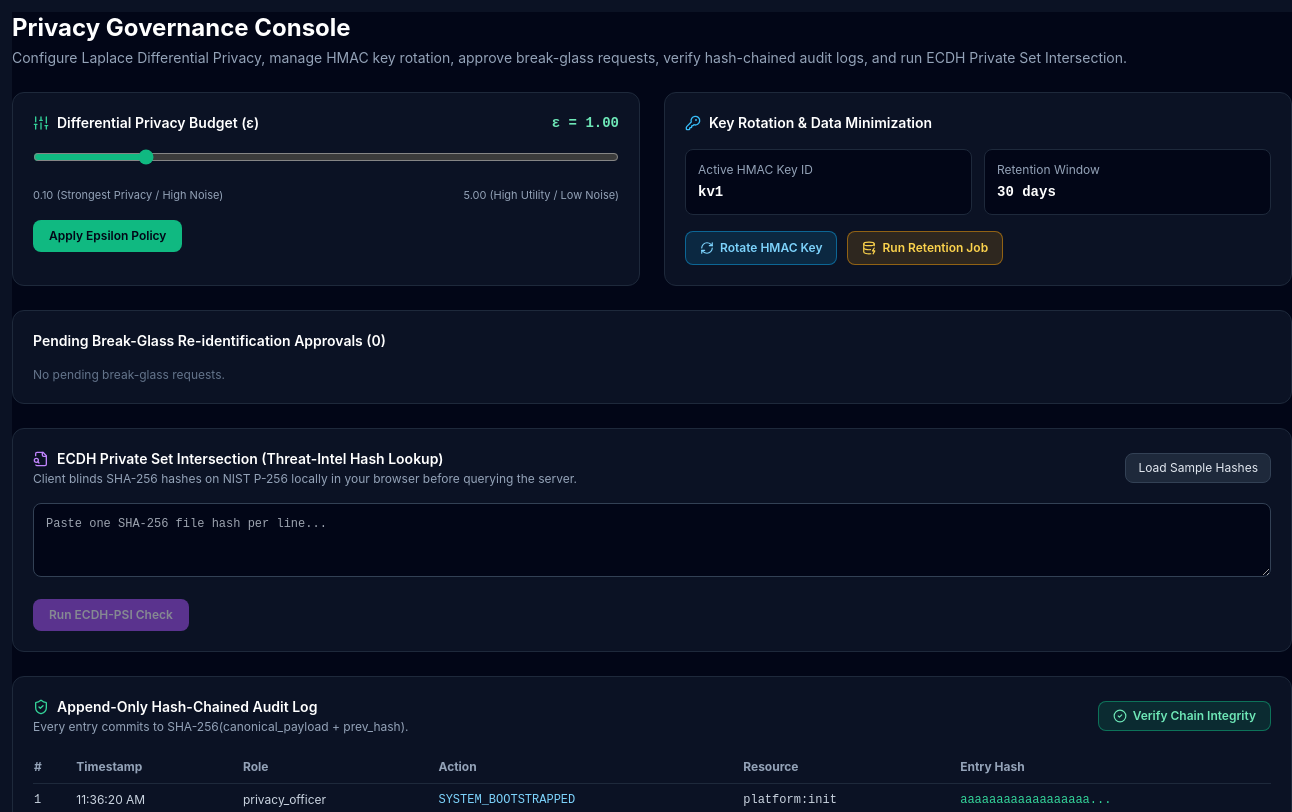
it: LoginPage & PrivacyConsolePage › allows privacy_officer to inspect audit chain and adjust epsilon
Step 1. Click the button "Verify Chain Integrity" → [1184, 716], box [1098, 701, 1271, 731]
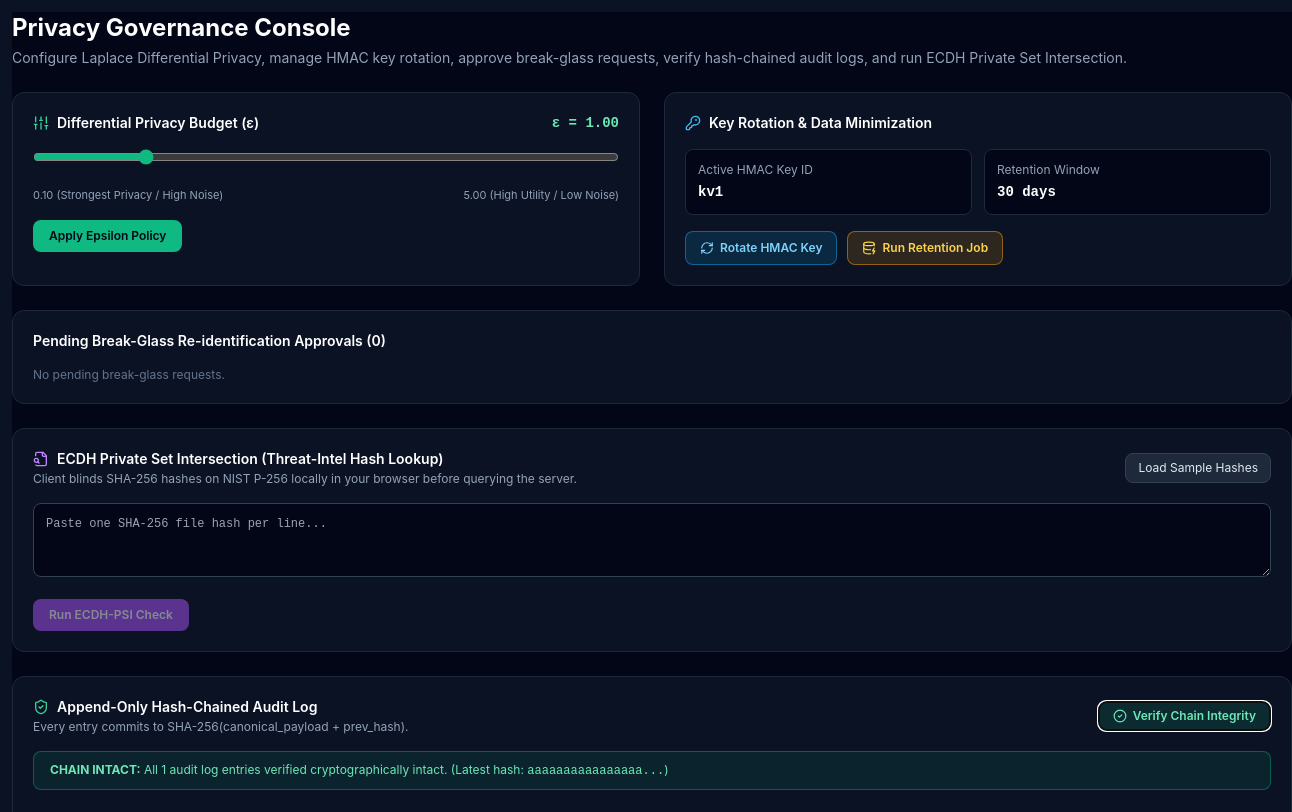
Now the element with test id "audit-verify-banner" shows "CHAIN INTACT", box [50, 762, 136, 777]
